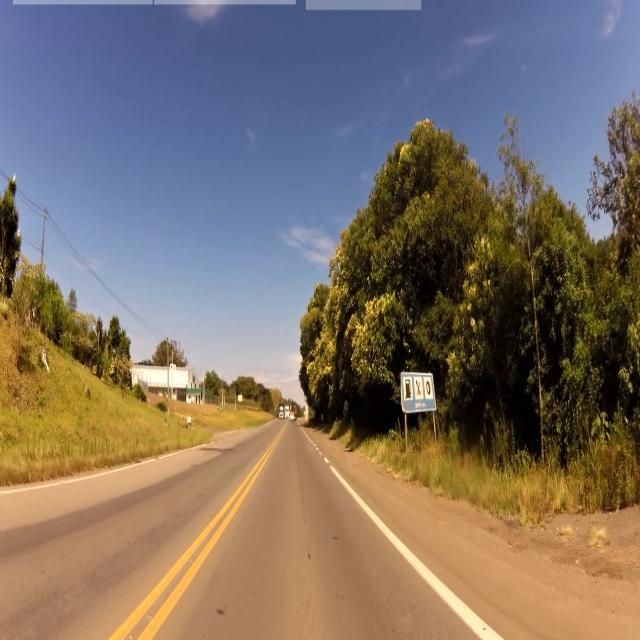LOC-6: (401, 368, 437, 416)
